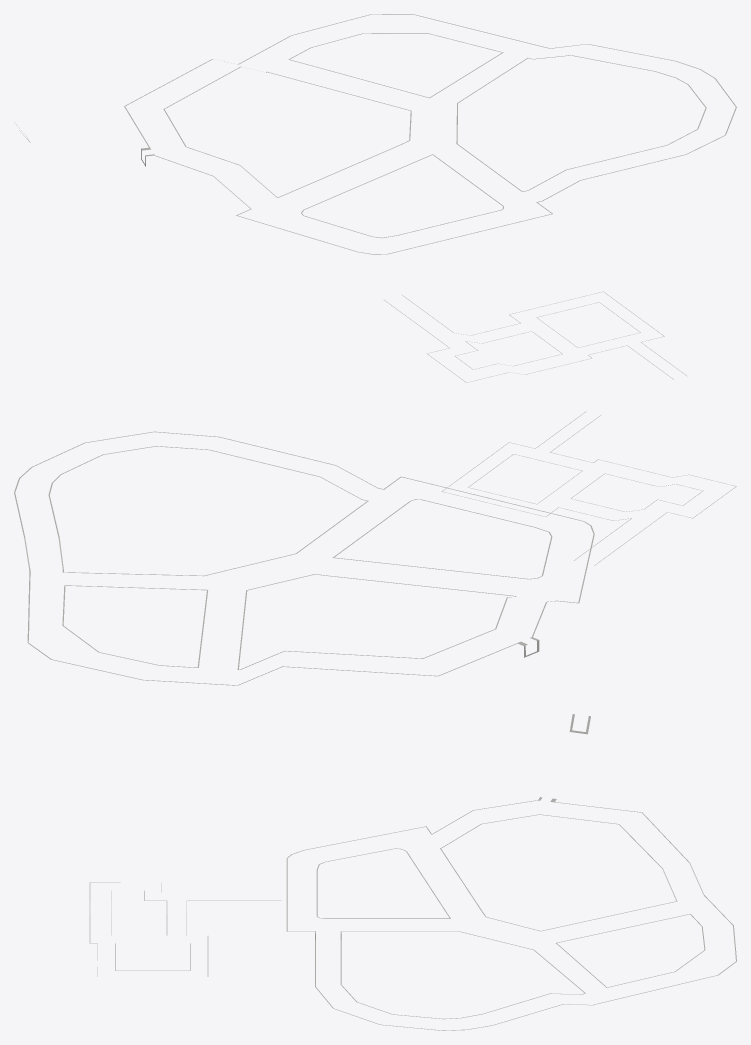
Rendered from kd_stage_136599_19_9.glb.
3 views of the same model, one above another, from view 1: azimuth 30°, elevation 25°; view 2: azimuth 150°, elevation 25°; view 3: azimuth 270°, elevation 25° (orthographic). The views are drawn at different scales.
Visible parts, largest first — view 1: kd_stage_136599_19_9; view 2: kd_stage_136599_19_9; view 3: kd_stage_136599_19_9.
Boxes of the visible parts, x1,y1,x2,y2 form: kd_stage_136599_19_9: (14,14,736,382); kd_stage_136599_19_9: (14,411,736,685); kd_stage_136599_19_9: (89,714,736,1030).
Bounding box in the file's own units: 136 × 22.13 × 152.
Materials: 1 (1 with a texture image).
